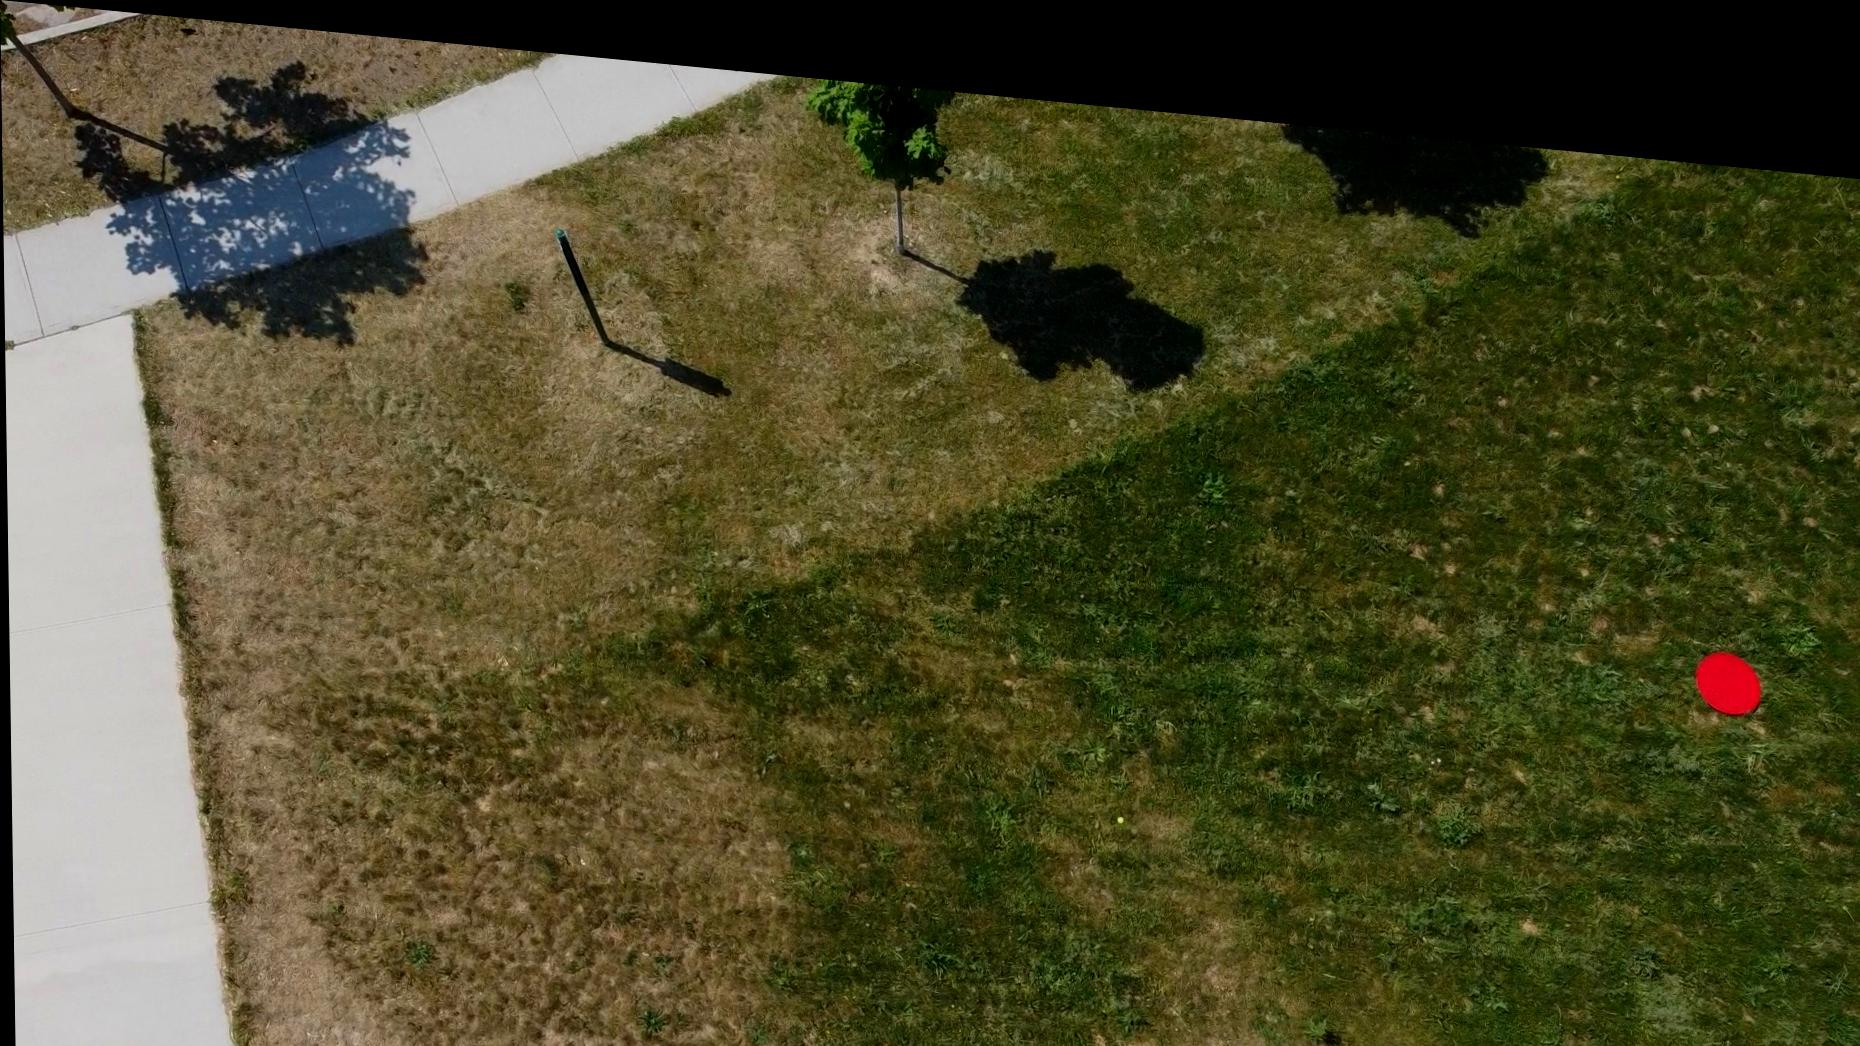Red: (1688, 612, 1764, 685)
